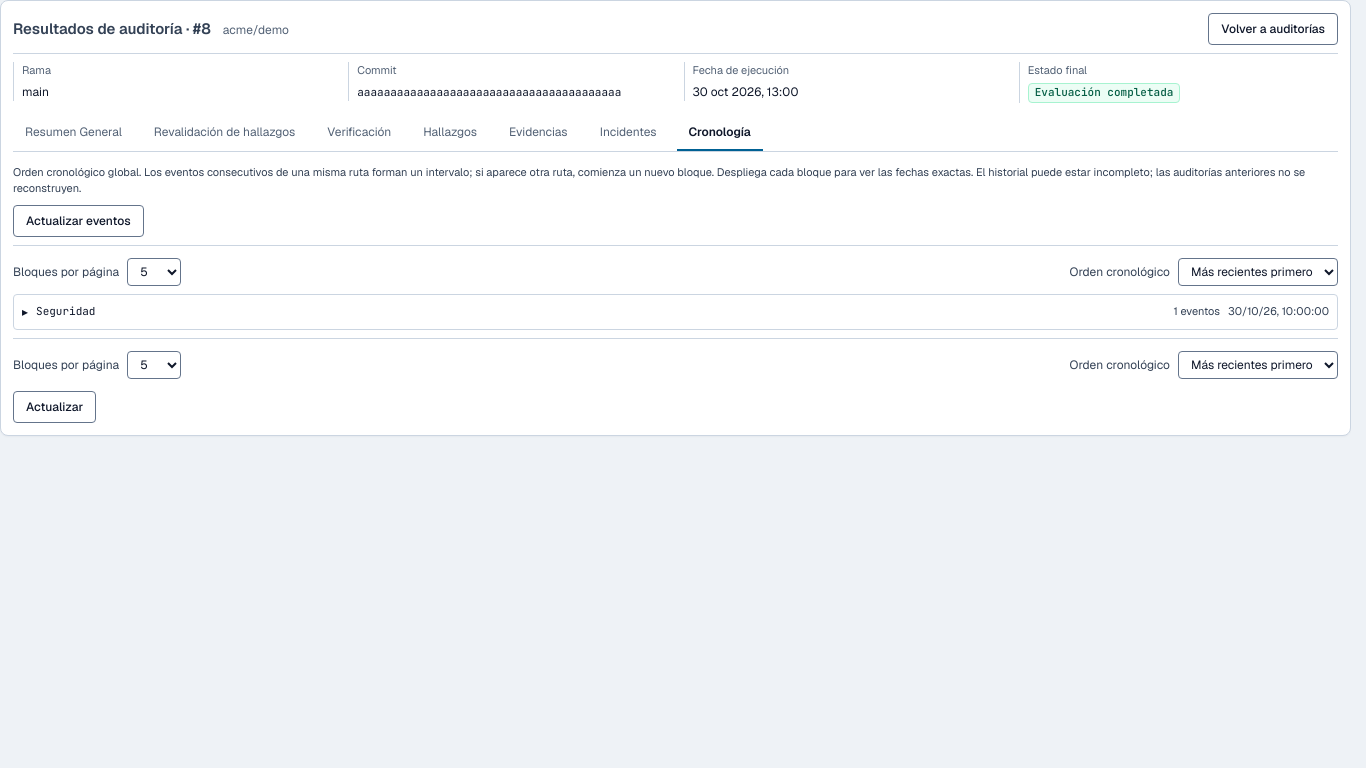
Test: opens event details in the shared modal, traps focus and closes with Escape
Click the heading "Seguridad 1 eventos 30/10/26, 10:00:00" at [66, 311], box top-left (22, 302), bottom-right (1329, 320)
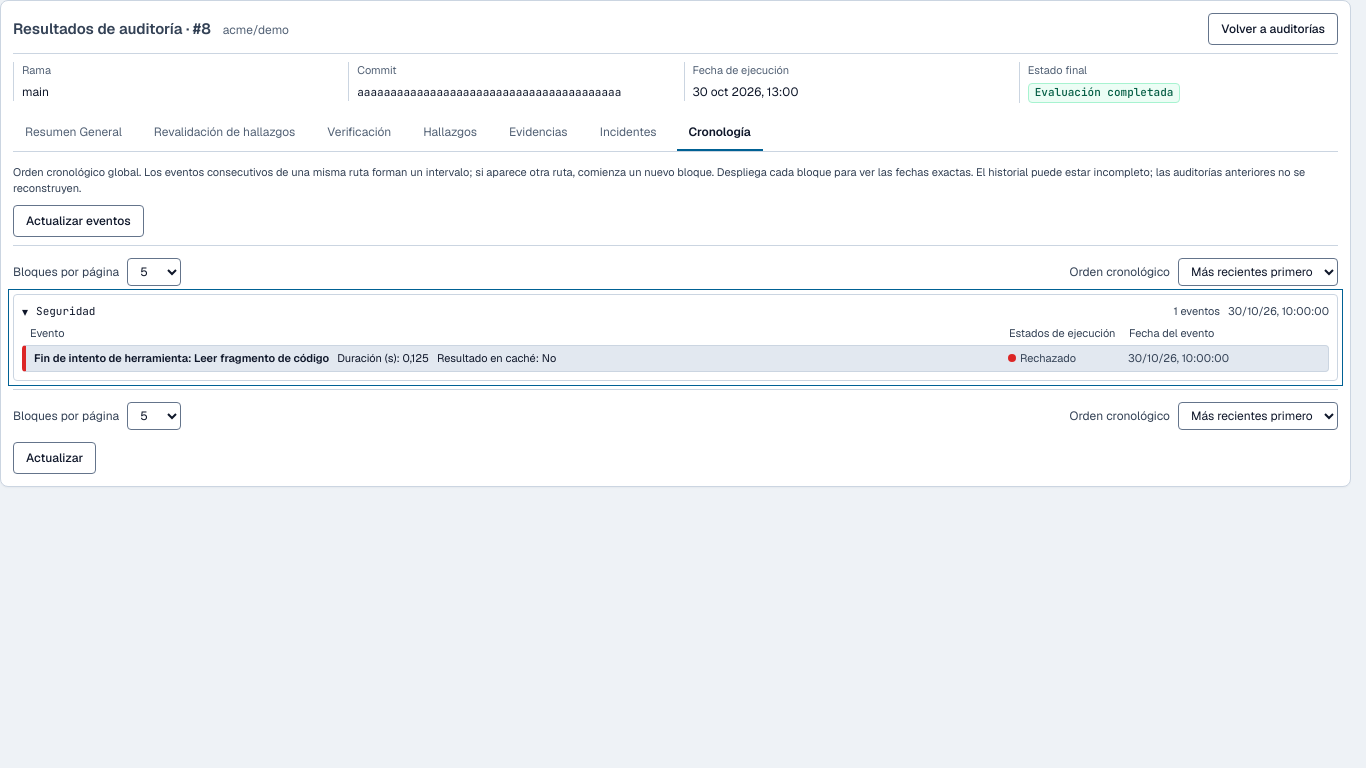
Click the button "Fin de intento de herramienta: Leer fragmento de código" at [182, 358], box top-left (22, 345), bottom-right (1329, 372)
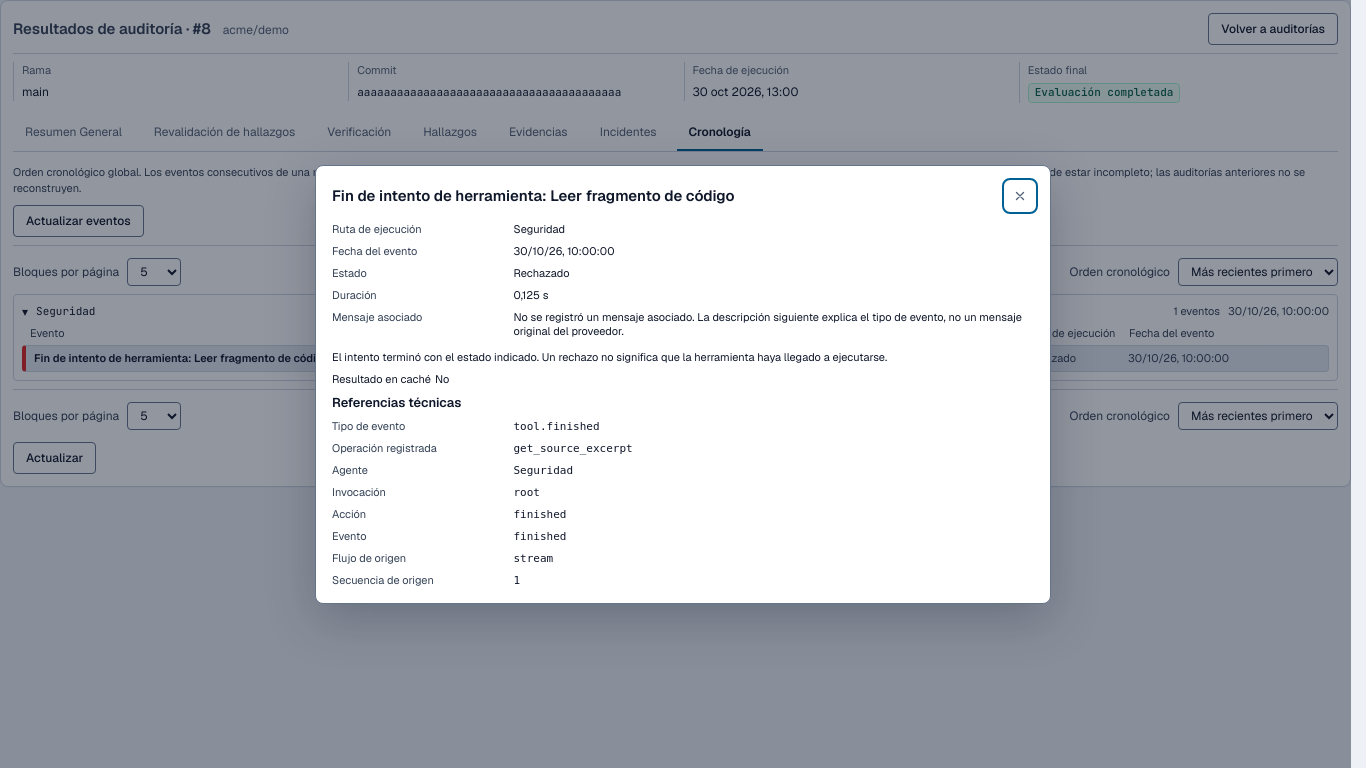
expect the text "Rechazado" is shown: met, box top-left (514, 266), bottom-right (570, 280)
expect the text "0,125 s" is shown: met, box top-left (514, 288), bottom-right (548, 302)
expect the text "Un rechazo no significa" is shown: met, box top-left (332, 350), bottom-right (887, 364)
Press Tab
Press Escape
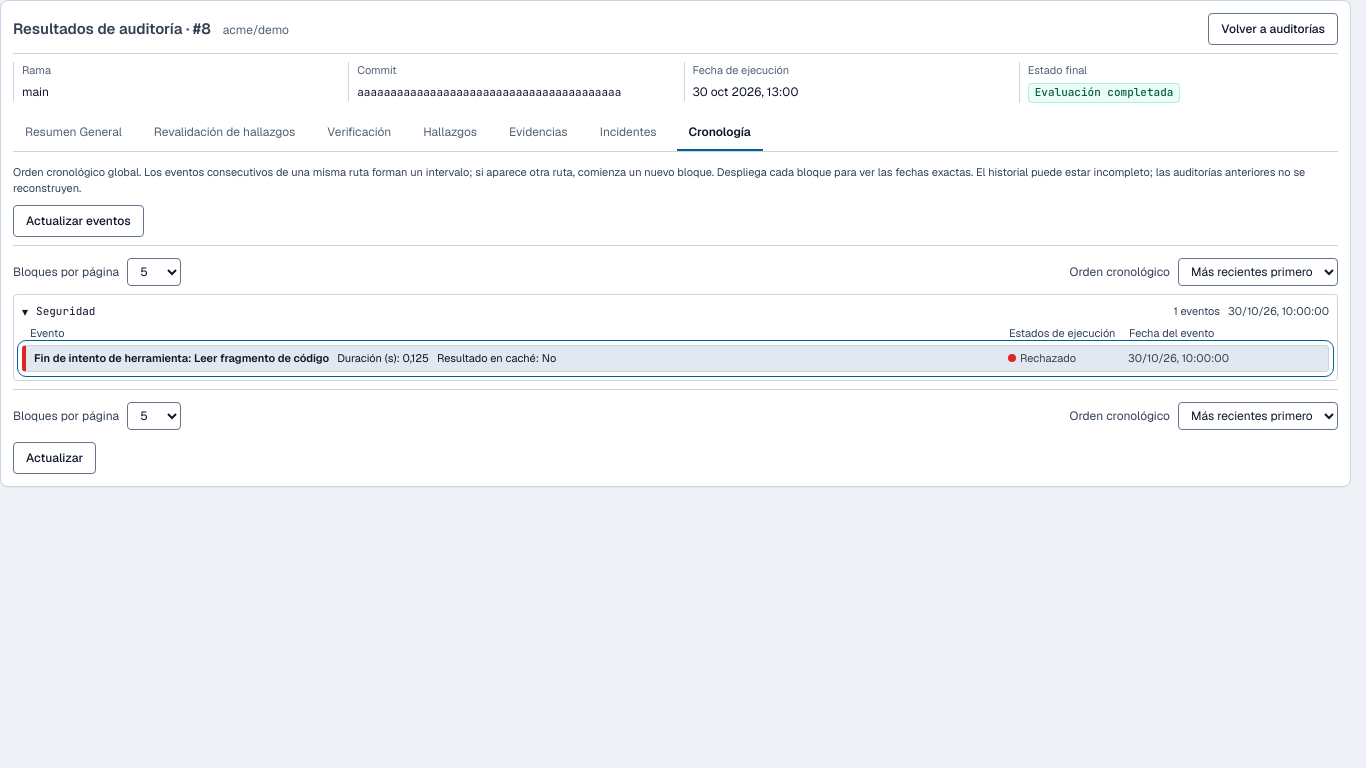
expect the dialog is gone: met
Press Enter
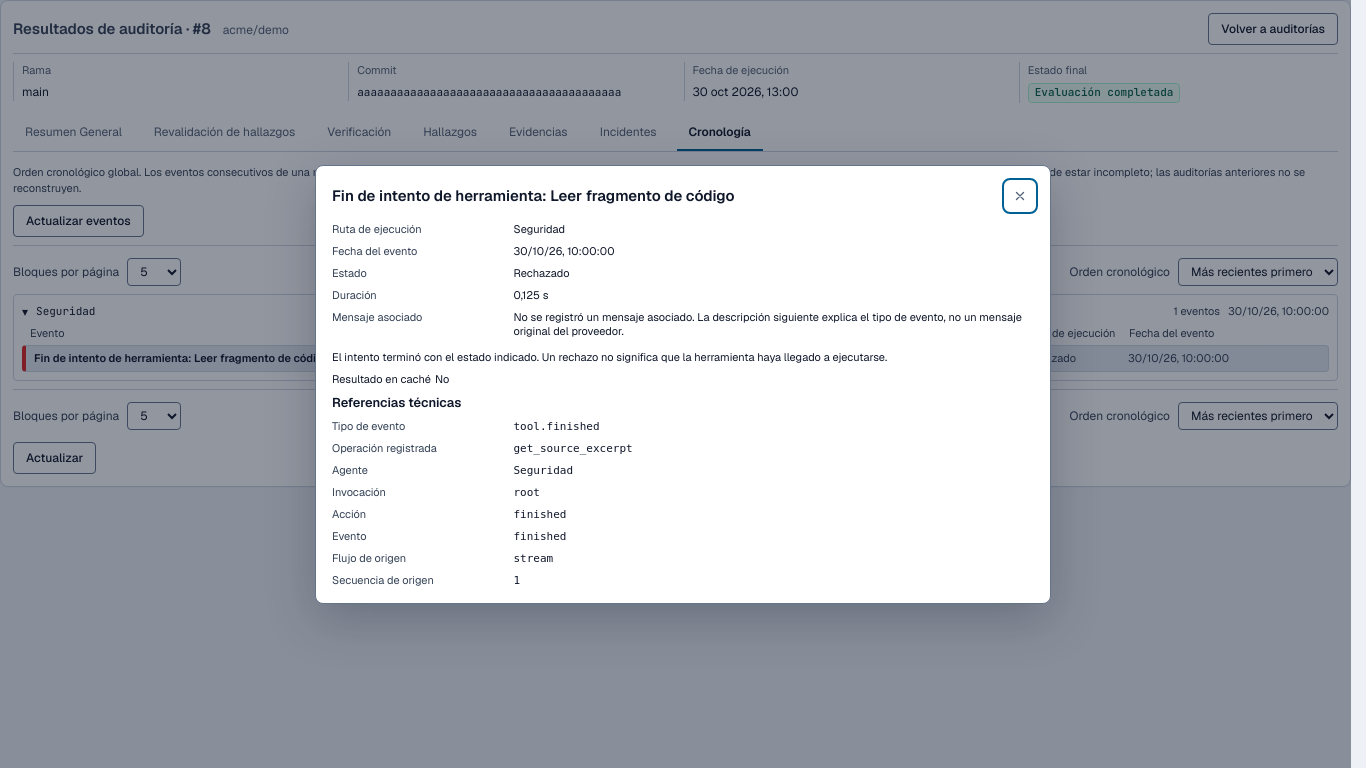
expect the dialog is shown: met, box top-left (315, 164), bottom-right (1051, 604)
Click the button named "Cerrar" at [1020, 196], box top-left (1006, 182), bottom-right (1034, 210)
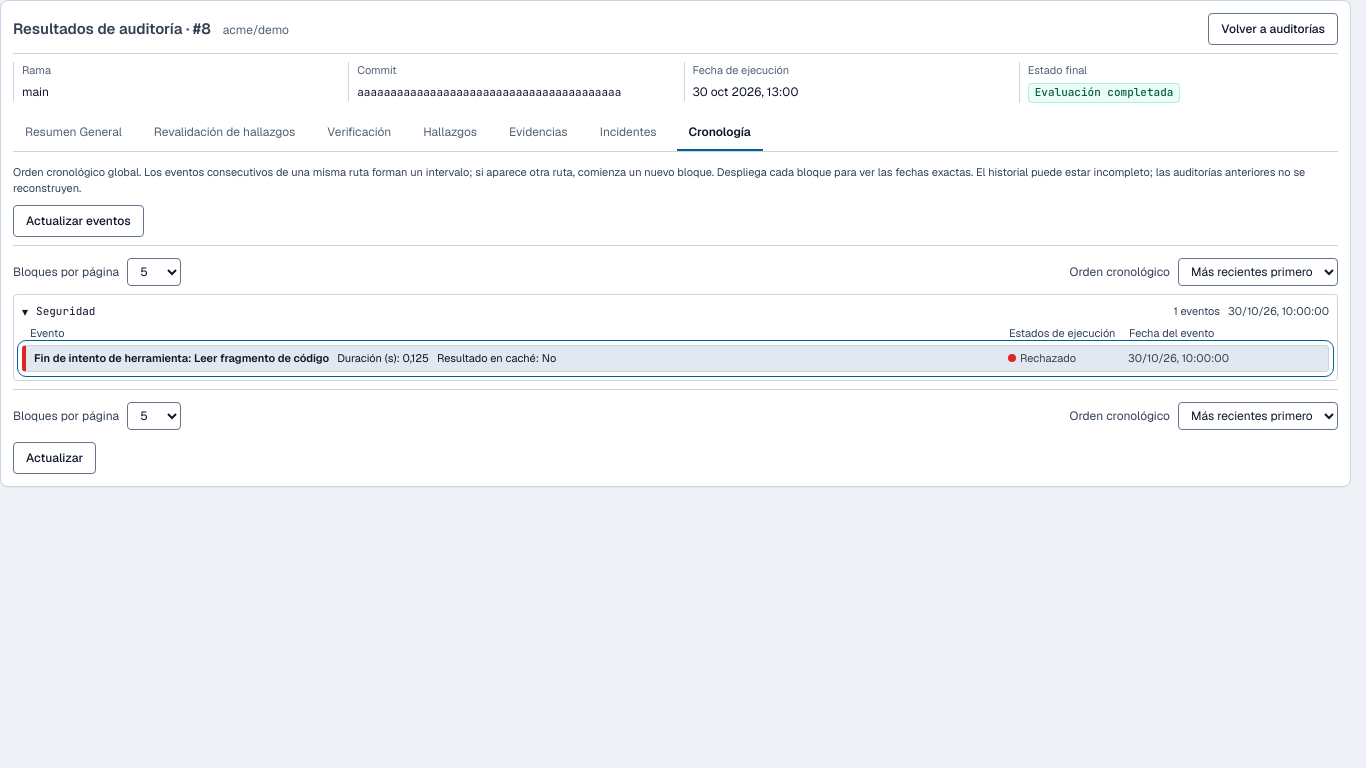
expect the dialog is gone: met
